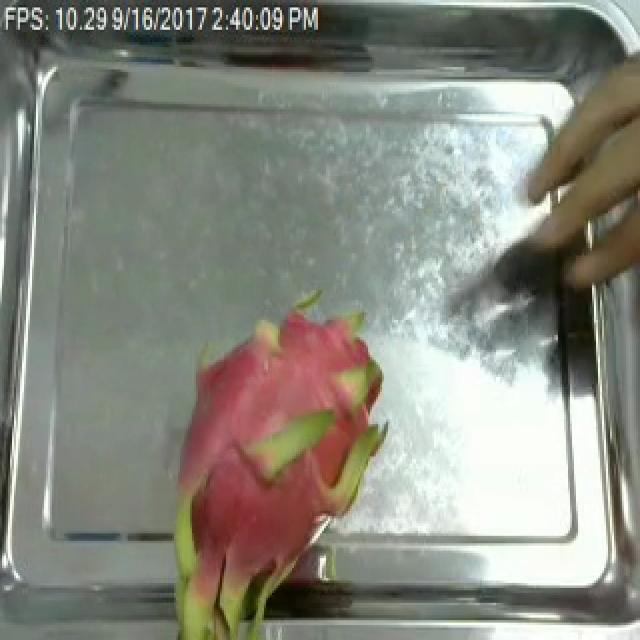fruit: (132, 290, 408, 640)
